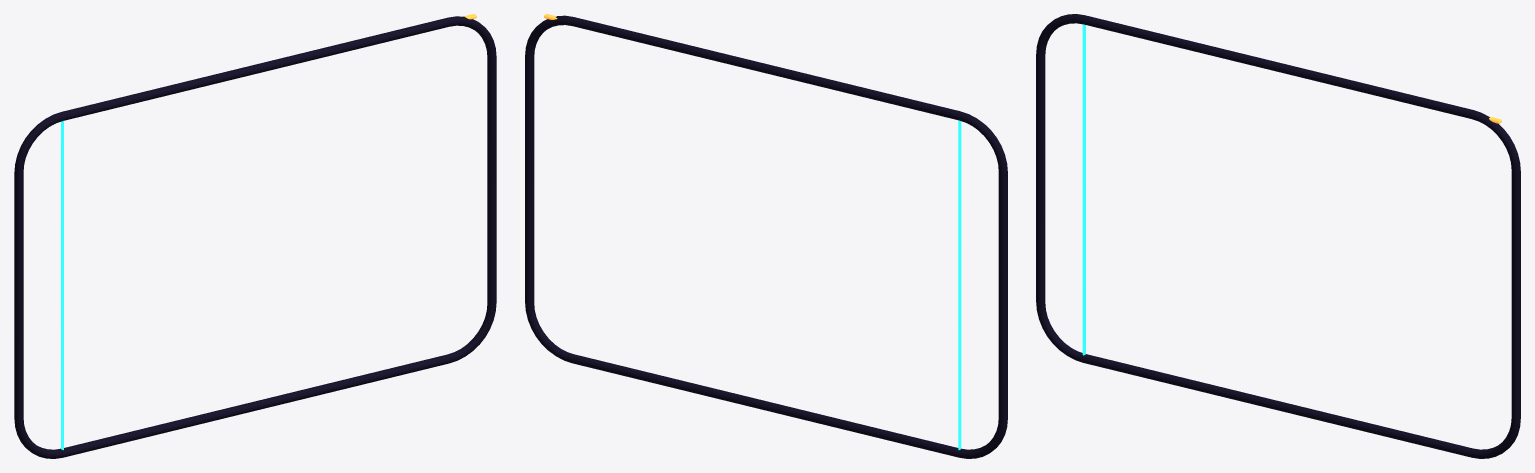
The model's file is split_glow_arcade_frame.glb.
The picture shows the model from 3 angles, left to right: view 1: azimuth 30°, elevation 25°; view 2: azimuth 150°, elevation 25°; view 3: azimuth 330°, elevation 25°; orthographic projection.
Visible parts, largest first — view 1: Rounded Portal Dark Housing, Rounded Portal Cyan Half; view 2: Rounded Portal Dark Housing, Rounded Portal Cyan Half; view 3: Rounded Portal Dark Housing, Rounded Portal Cyan Half.
Boxes of the visible parts, x1,y1,x2,y2 form: Rounded Portal Dark Housing: (14,16,496,458); Rounded Portal Cyan Half: (61,120,63,450); Rounded Portal Dark Housing: (525,15,1007,458); Rounded Portal Cyan Half: (958,120,961,449); Rounded Portal Dark Housing: (1036,14,1520,458); Rounded Portal Cyan Half: (1082,24,1085,355).
Size of the model in its own units: 12.4 by 8.5 by 0.21.
